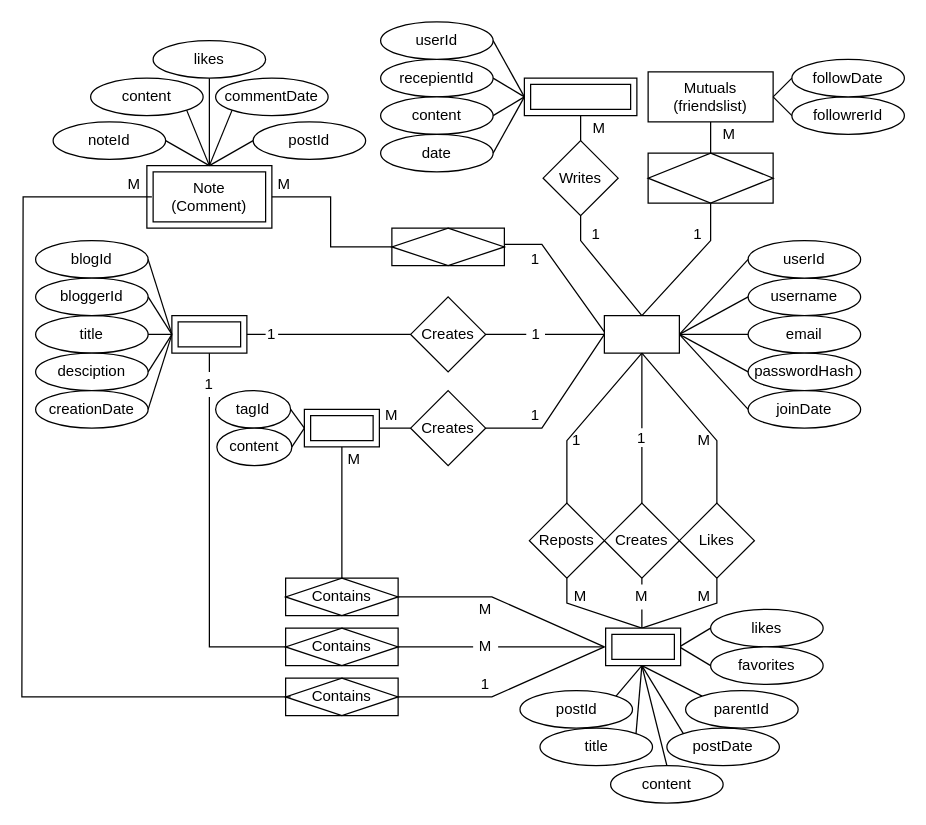
This 926x825 diagram has some shape labels left out. Here are the shapes that lost their labels. From the top down, the box of each, then its label:
(523, 77, 637, 116): Message
(647, 152, 773, 203): has followed
(391, 227, 504, 266): Comments
(171, 314, 247, 353): Blog
(603, 314, 679, 353): User
(303, 408, 379, 447): Tag
(604, 627, 681, 666): Post
